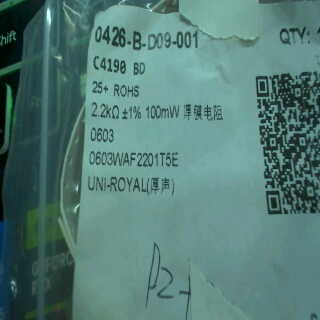2.2kR: (87, 98, 120, 123)
